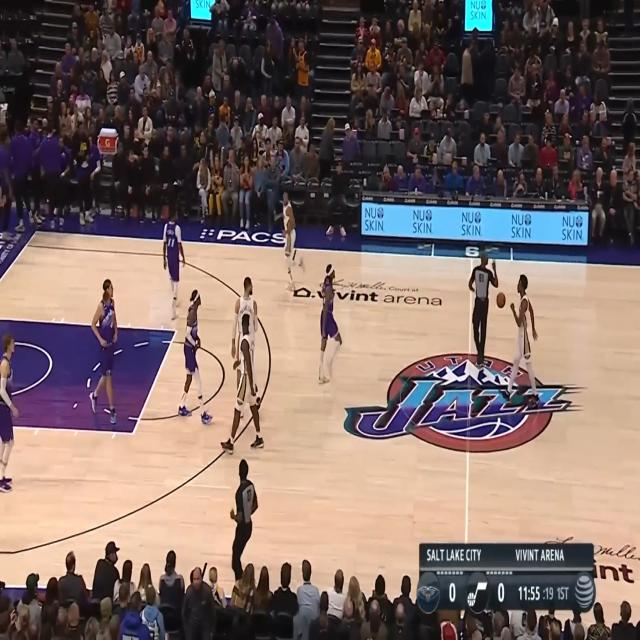Ball: (496, 292, 506, 310)
Period: (555, 582, 569, 600)
Player: (220, 313, 264, 457), (177, 289, 215, 427), (502, 272, 540, 408), (87, 278, 119, 422), (467, 249, 498, 367), (0, 330, 20, 492), (318, 262, 342, 388), (280, 191, 308, 295), (232, 274, 258, 384), (162, 200, 184, 318)
Ref: (228, 458, 256, 576)
Shot Clock: (542, 583, 555, 604)
Team Points: (444, 580, 461, 605), (492, 580, 508, 604)
Time Remaining: (517, 583, 541, 603)
